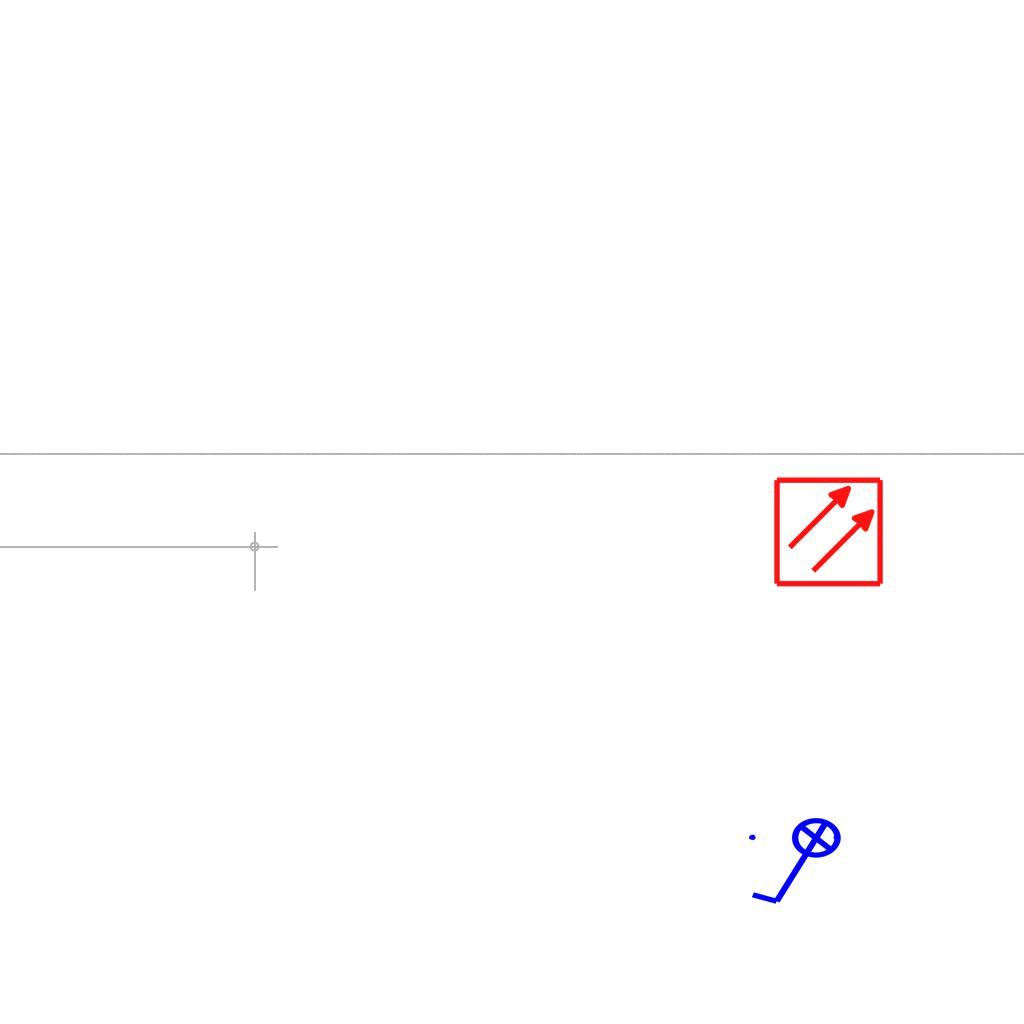Ausschalter_beleuchtet: (743, 816, 855, 912)
RMO_Rauchmelder_optischer: (772, 475, 885, 588)
